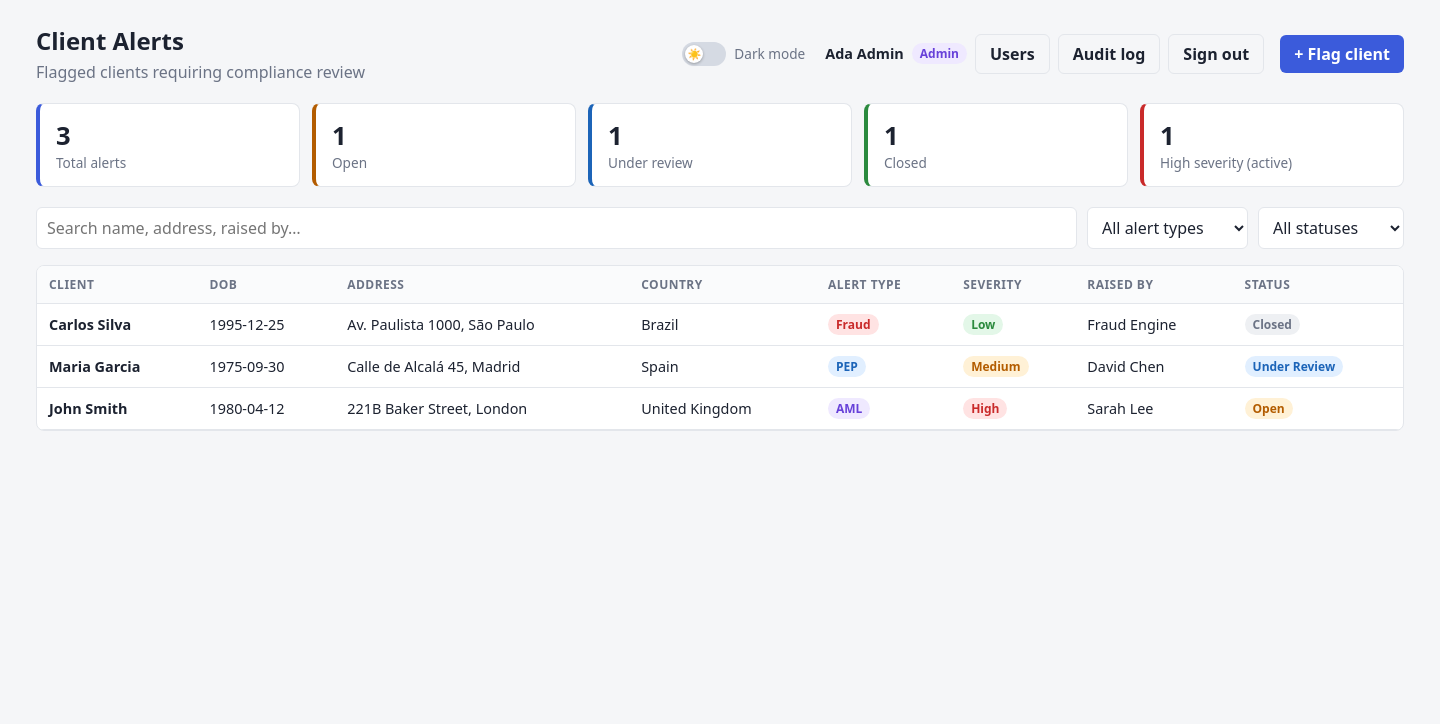
sign in › drops to sign in if the session expires mid-use
Click the text "John Smith": point(117, 408) [37,388,197,430]
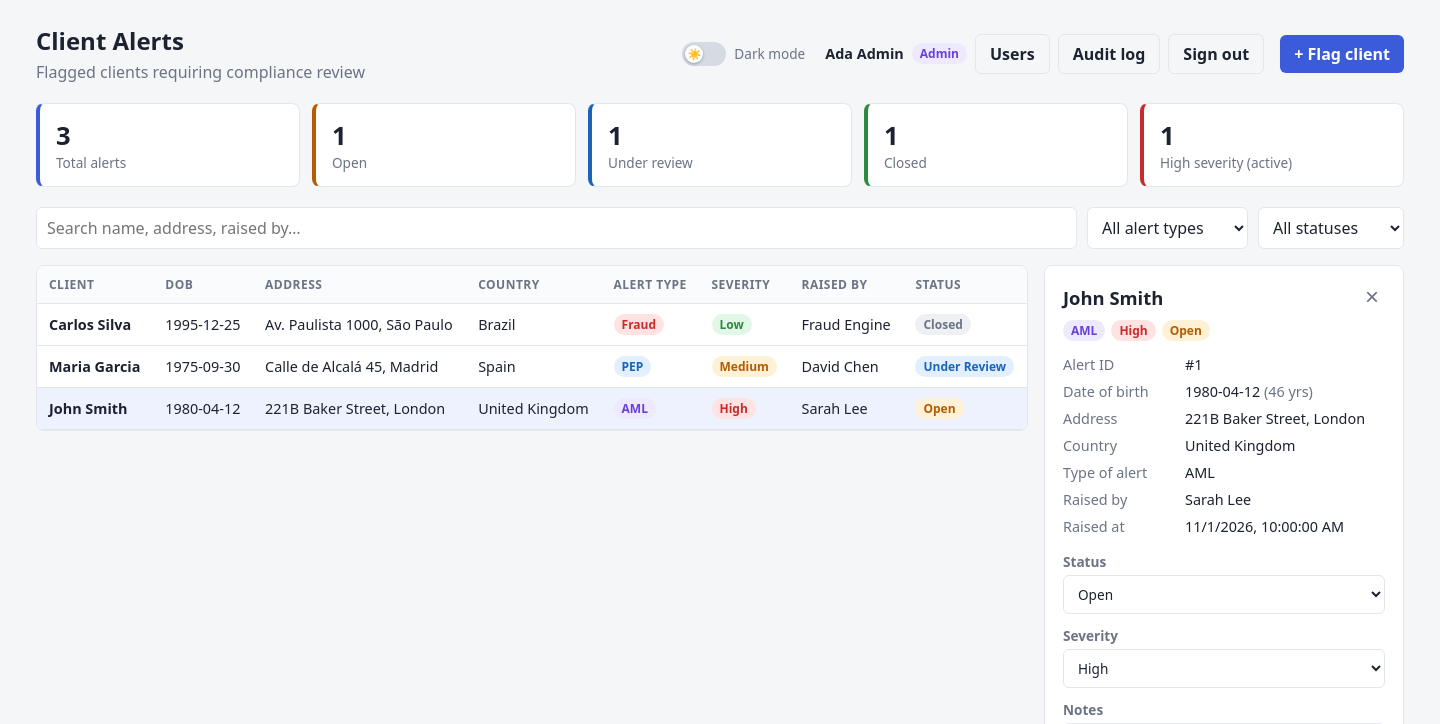
Select "Closed" in the dropdown labelled "Status": point(1224, 594) [1063,575,1385,614]
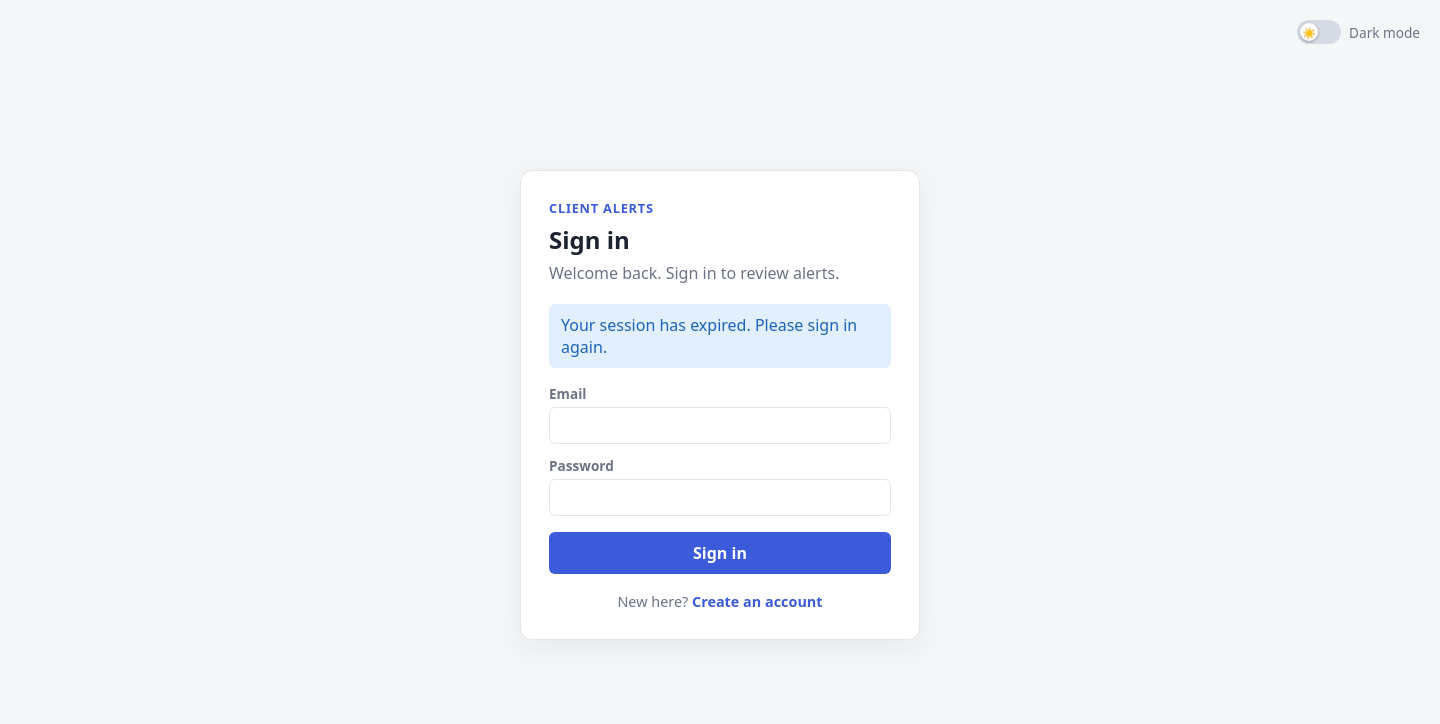
Expected: the heading "Sign in" is shown, [549,223,630,256]
